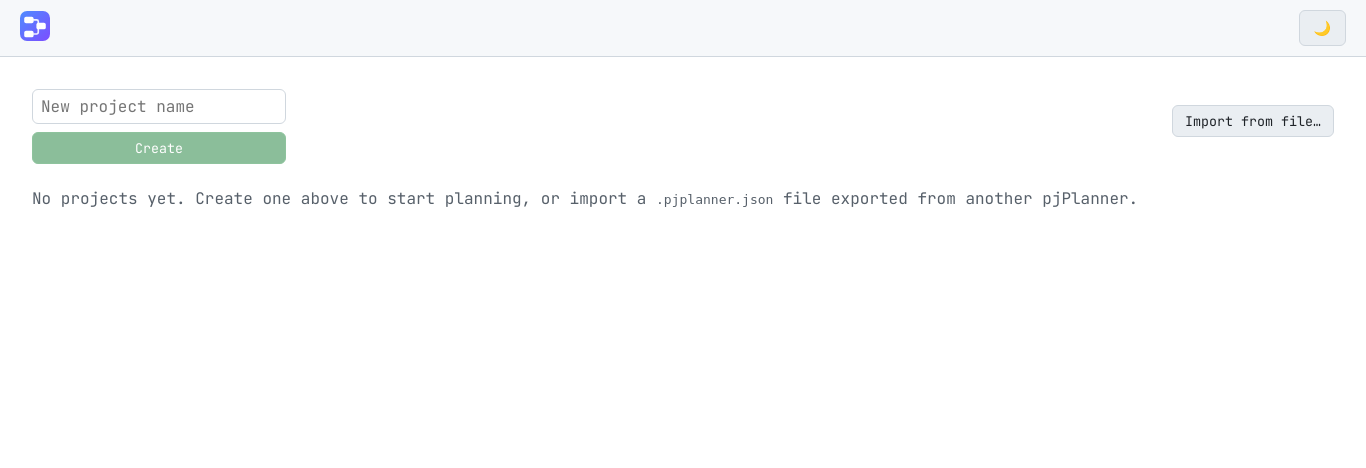
App without projects › opens on the Projects page with no error banner, then enters the project it creates
Check: the text "No projects yet" is shown, box [32,188,656,209]
Type "First" into the field labelled "New project name".
click(159, 106); type("First")  # box [32,89,286,124]
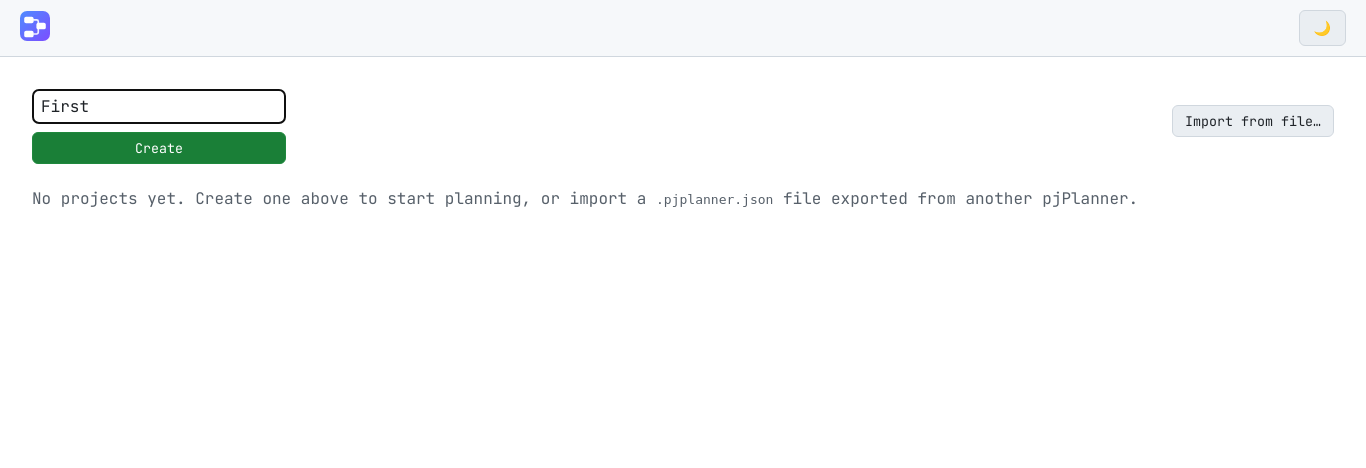
Click the button "Create".
click(159, 148)  # box [32,132,286,164]
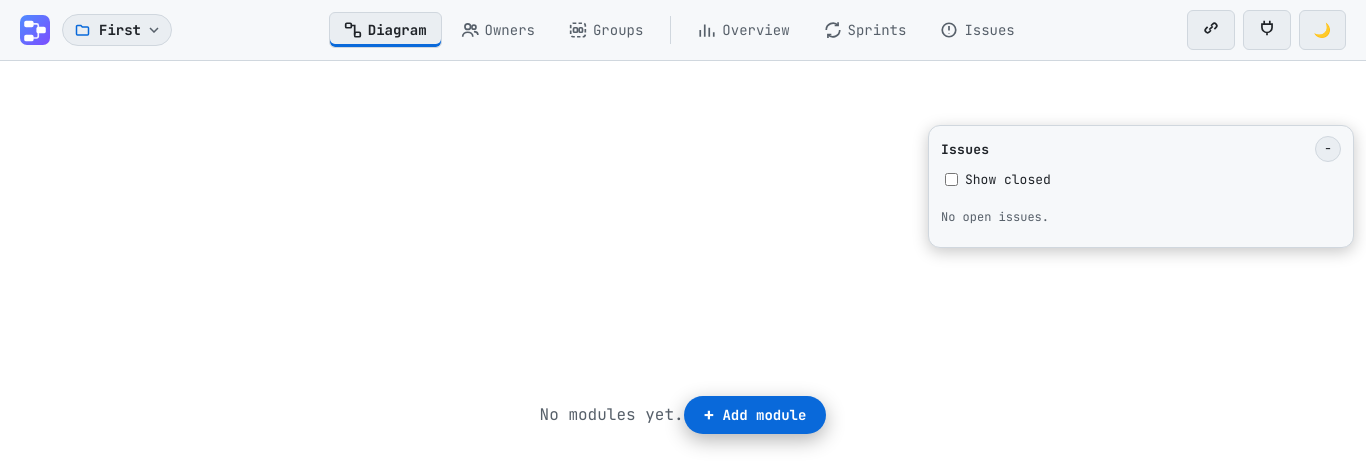
Check: the button with aria-label "Project: First" is shown, box [62,14,172,46]
